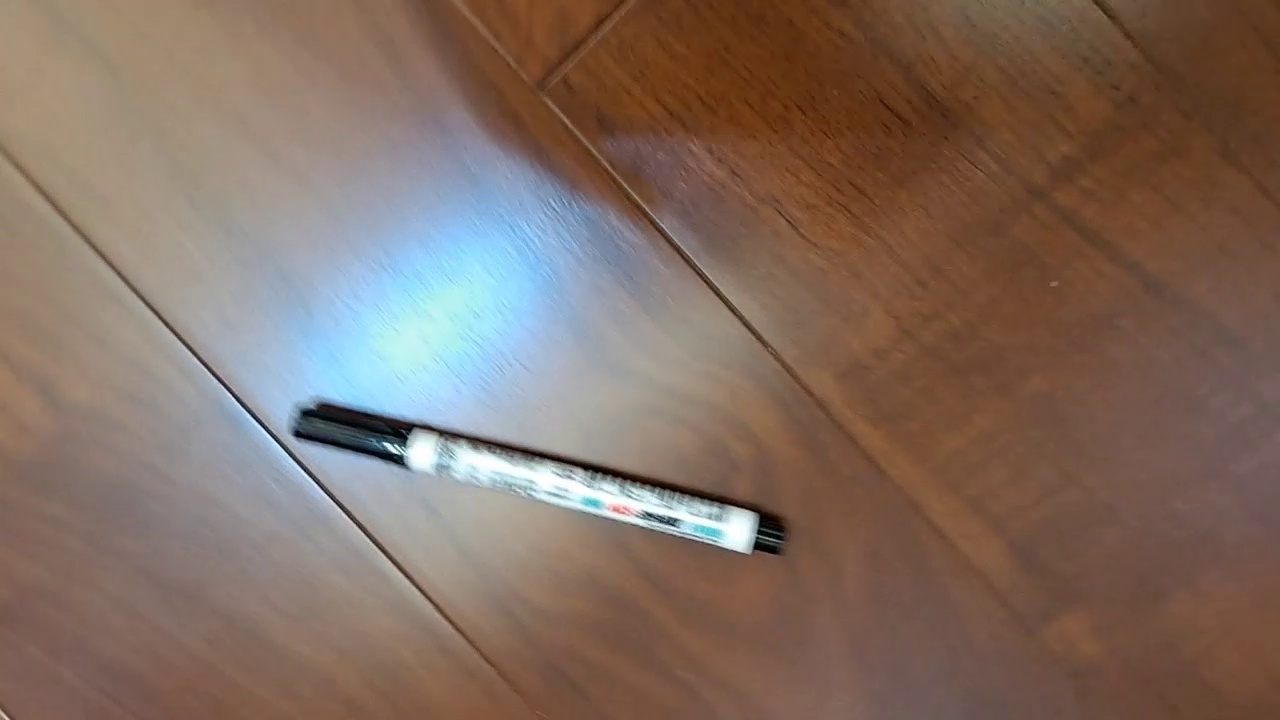pen: (286, 405, 790, 557)
